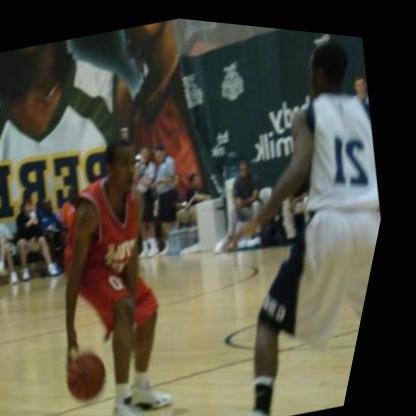basketball: (70, 342, 131, 404)
